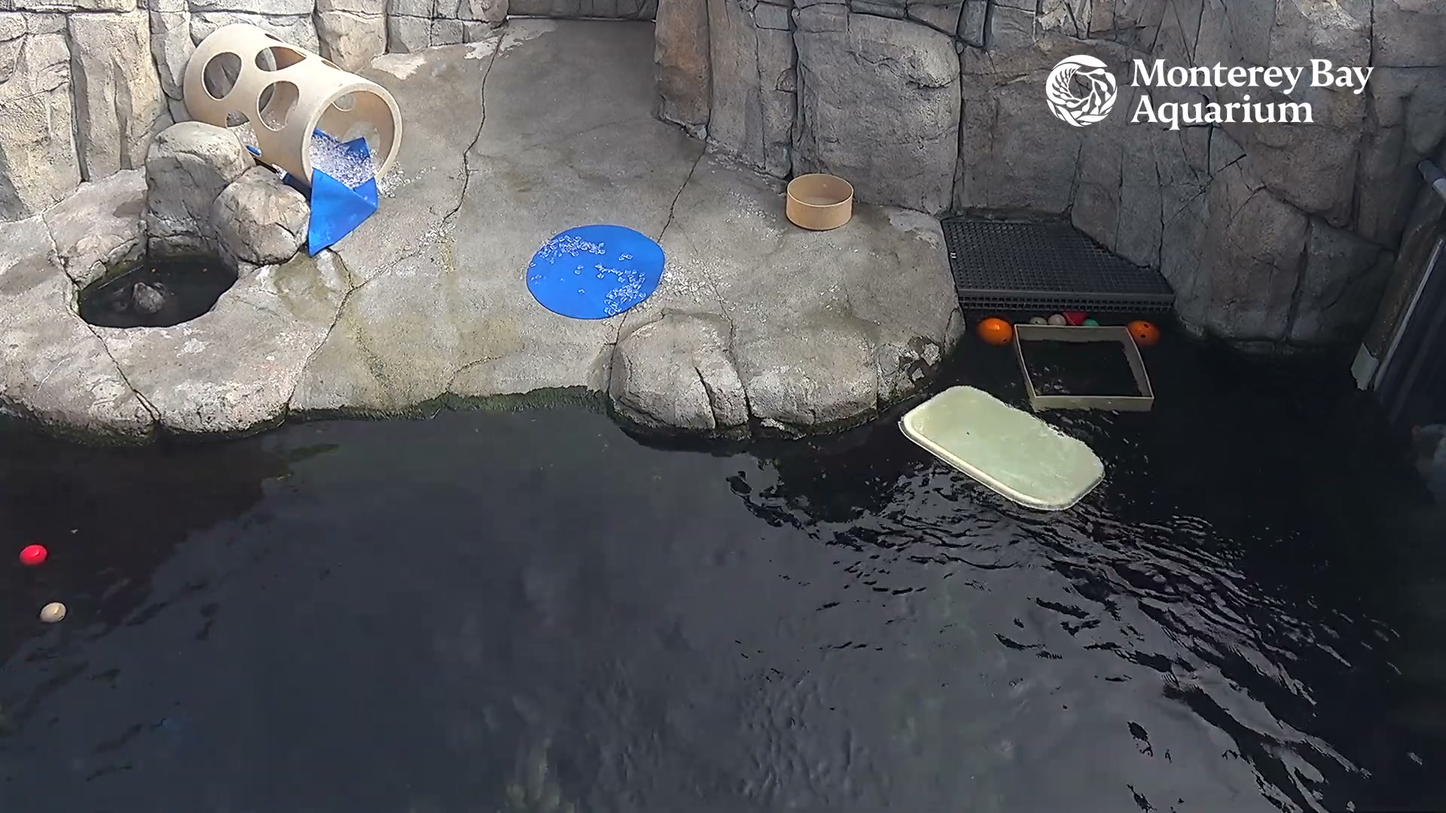Southern Sea Otter: (99, 282, 187, 324)
